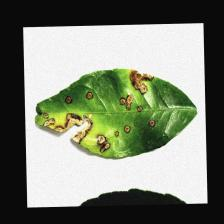canker: (30, 64, 164, 178)
